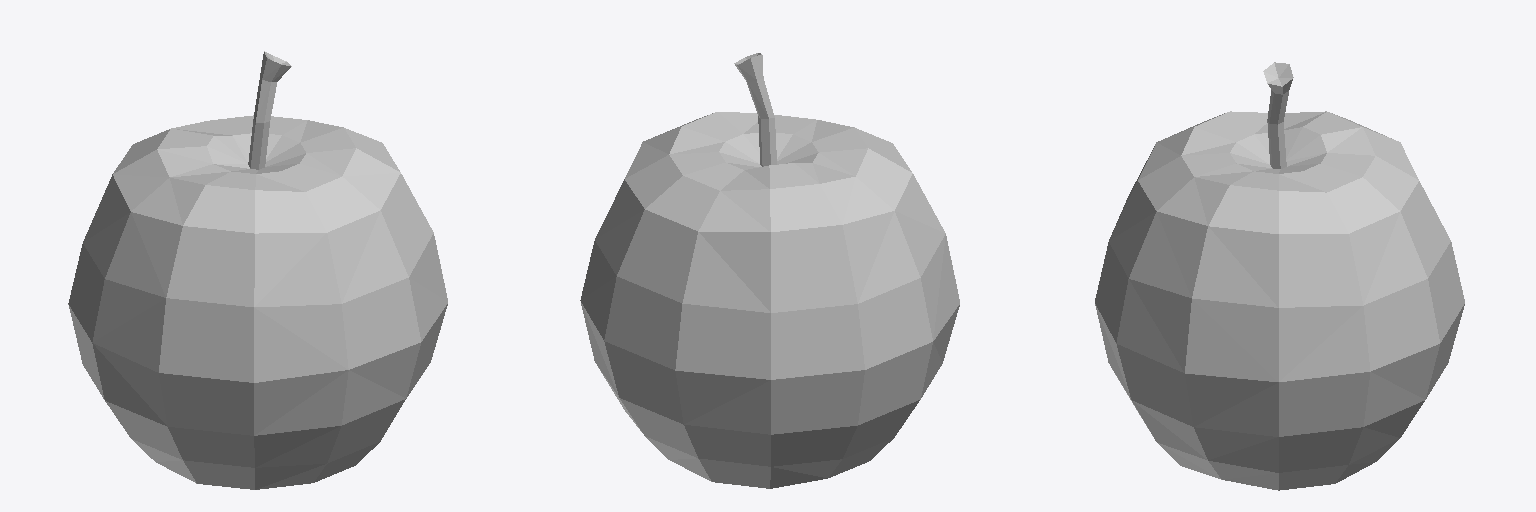
File: apple.obj
3 views of the same model, side by side, from view 1: azimuth 30°, elevation 25°; view 2: azimuth 150°, elevation 25°; view 3: azimuth 270°, elevation 25° (orthographic).
Visible parts, largest first — view 1: applemesh; view 2: applemesh; view 3: applemesh.
Part boxes in pixels (left/top/right/bottom): applemesh: left=68, top=51, right=447, bottom=489; applemesh: left=580, top=53, right=959, bottom=488; applemesh: left=1095, top=62, right=1464, bottom=490.
Size of the model in its own units: 0.2048 by 0.2361 by 0.2.